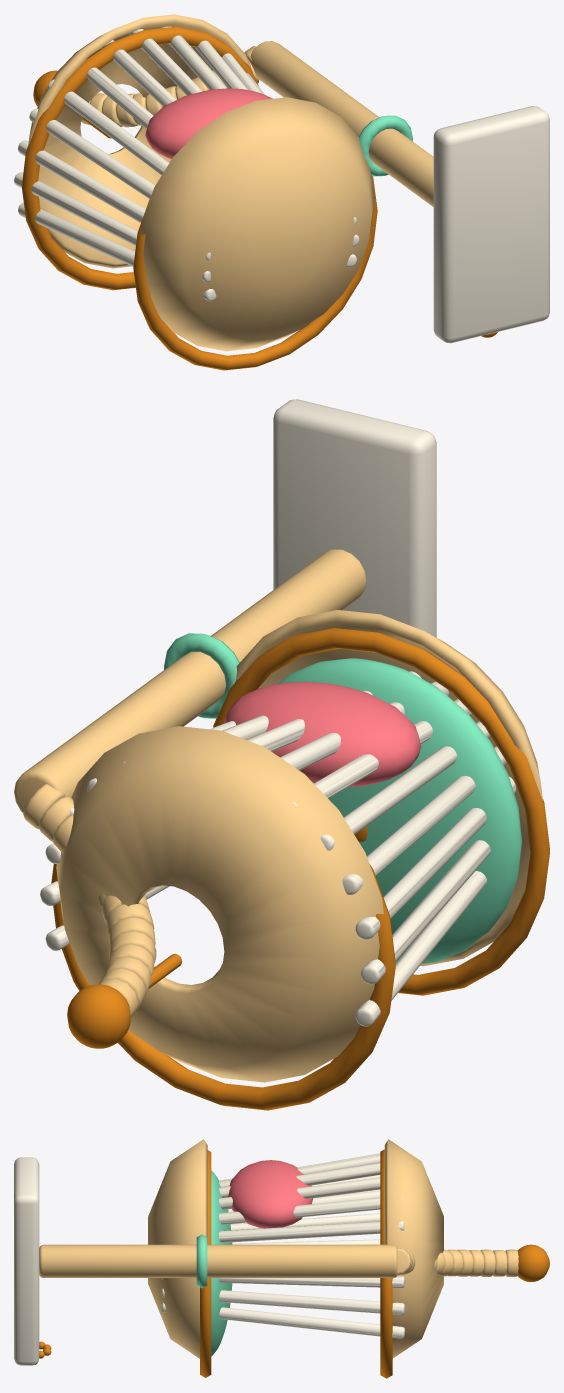
The model's file is BalconyHangingChair_Premium.fbx.
The picture shows the model from 3 angles, top to bottom: view 1: azimuth 30°, elevation 25°; view 2: azimuth 150°, elevation 25°; view 3: azimuth 270°, elevation 25°; orthographic projection. The views are drawn at different scales.
Parts seen in each view (by area): view 1: BalconyHangingChair; view 2: BalconyHangingChair; view 3: BalconyHangingChair.
Boxes of the visible parts, bbox=[...] form: BalconyHangingChair: bbox=[14, 14, 549, 370]; BalconyHangingChair: bbox=[14, 399, 549, 1110]; BalconyHangingChair: bbox=[14, 1139, 549, 1378].
Bounding box in the file's own units: 0.79 × 0.74 × 1.48.
